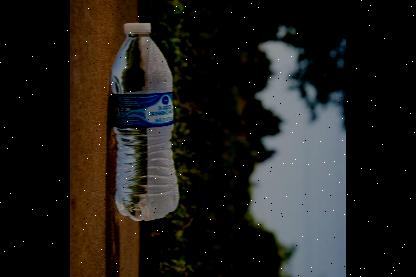Plastic Bottle: (110, 22, 178, 221)
